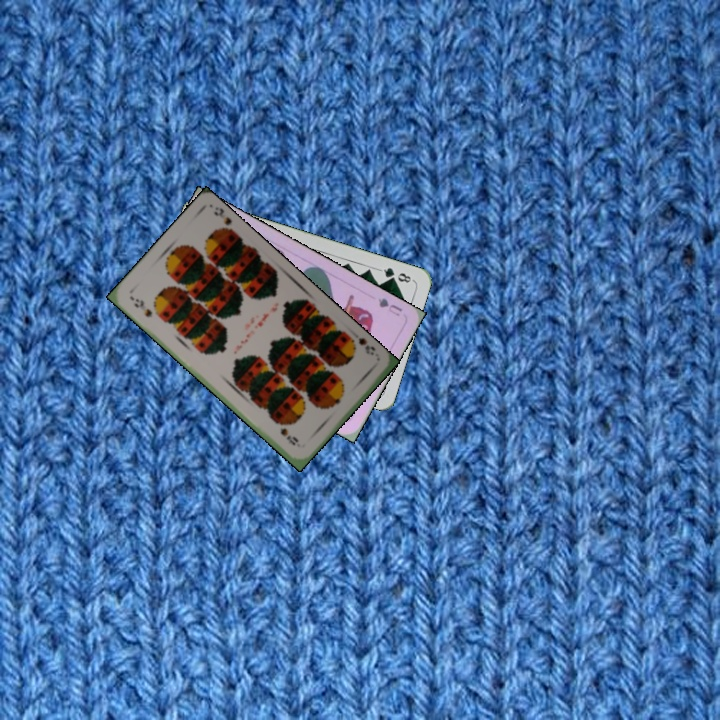G8: (376, 263, 416, 285)
GU: (374, 294, 405, 319)
S9: (344, 333, 378, 358), (126, 292, 155, 320)
